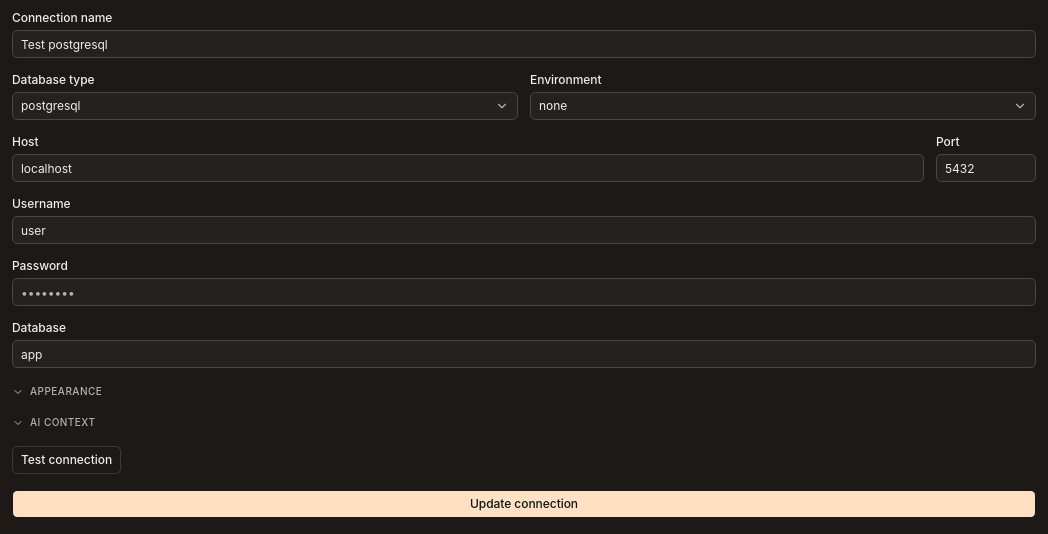
it: connectionForm test-connection flow › shows an error pill when the test rejects
Click the button "Test connection" at {"x": 67, "y": 460}, box [12,446,121,474]
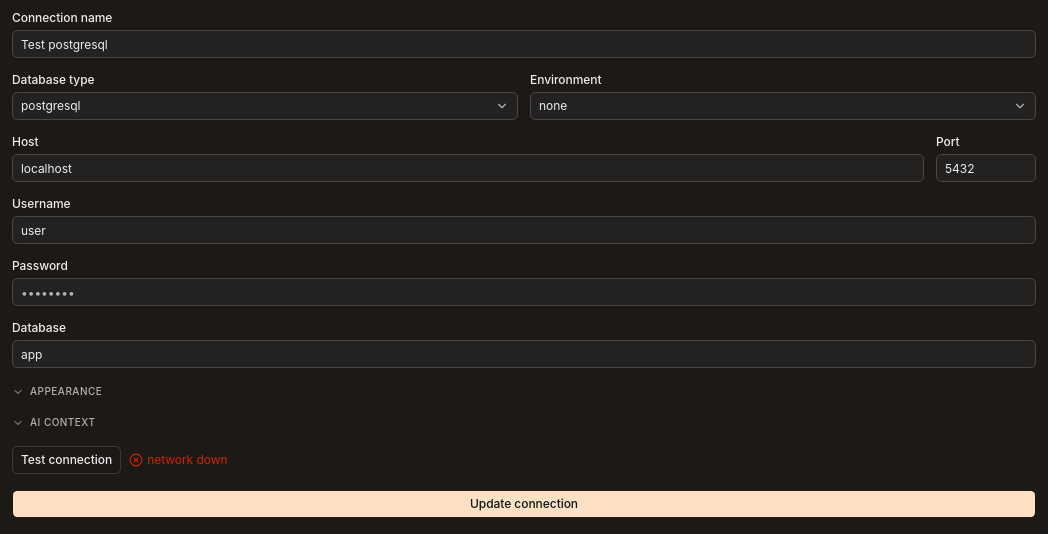
Expected: the text "network down" is shown, [129,452,227,468]
